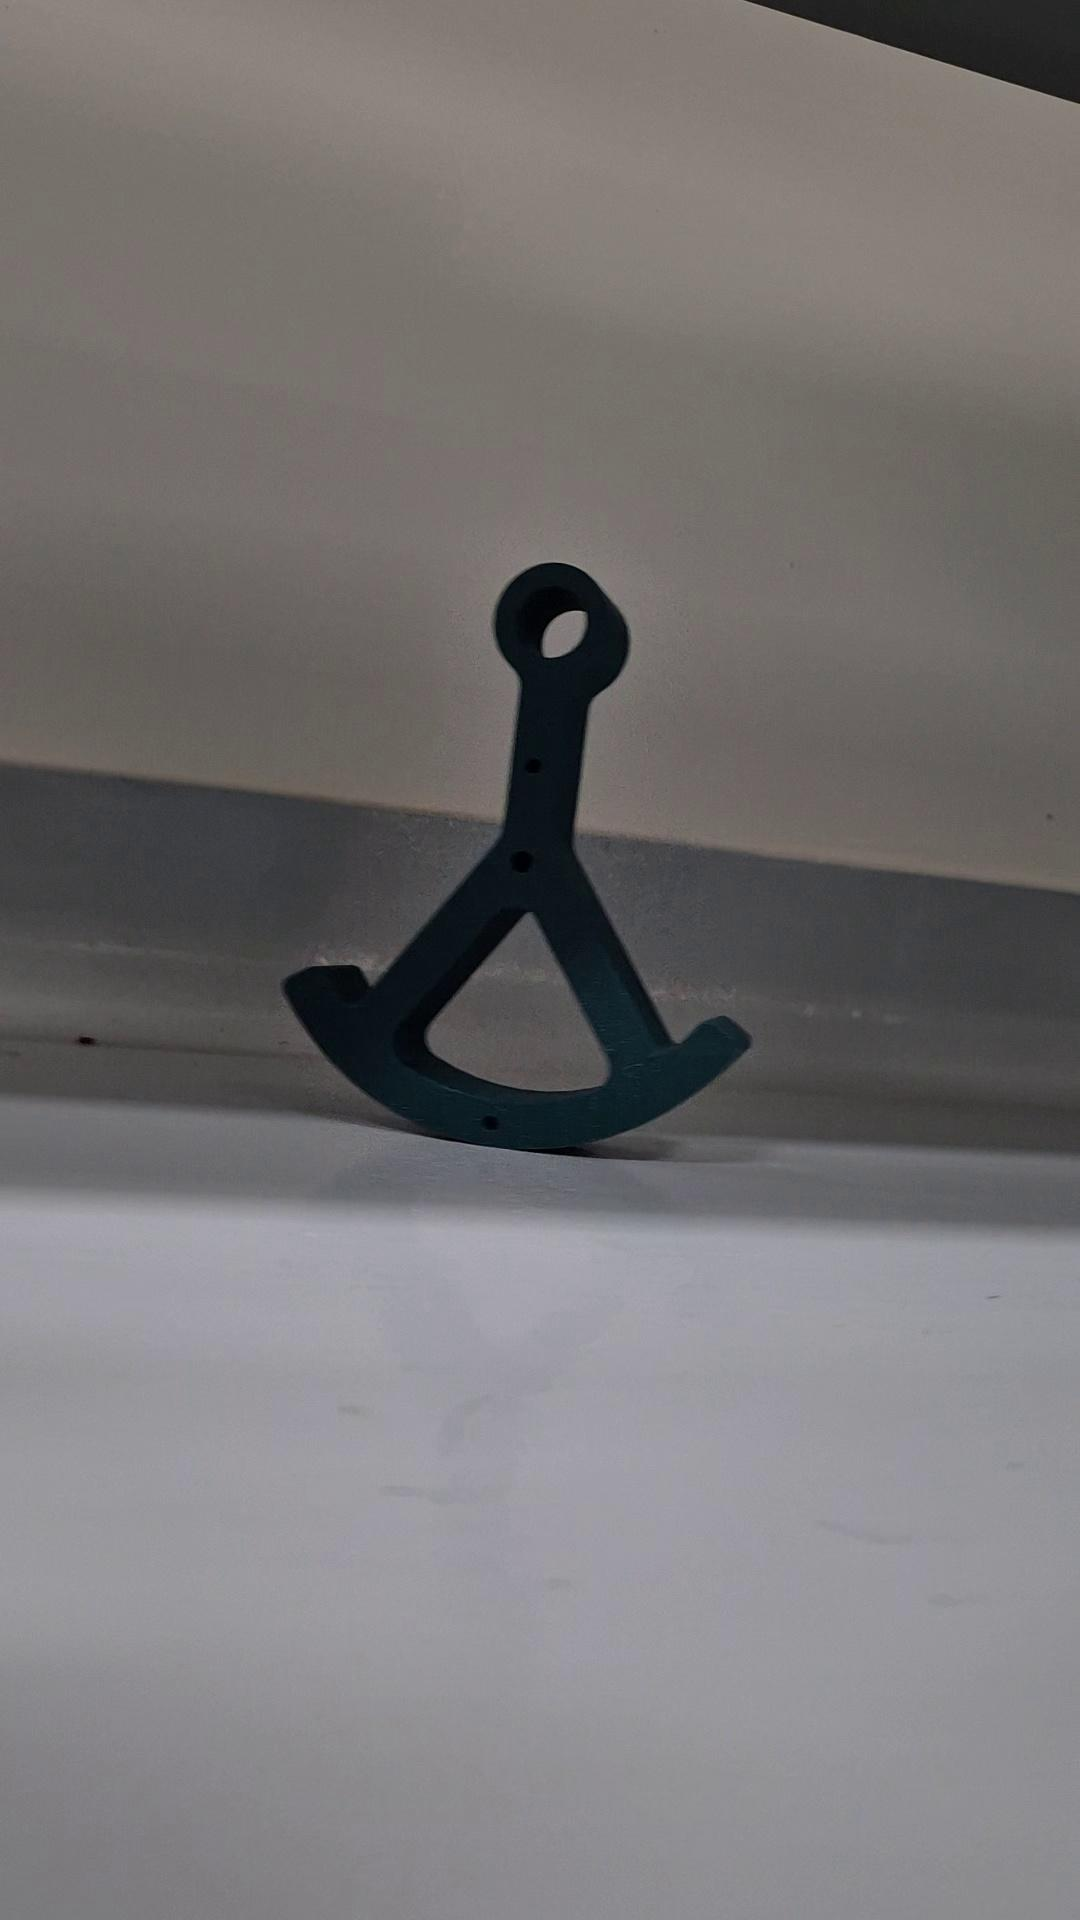Paddles: (277, 559, 756, 1158)
